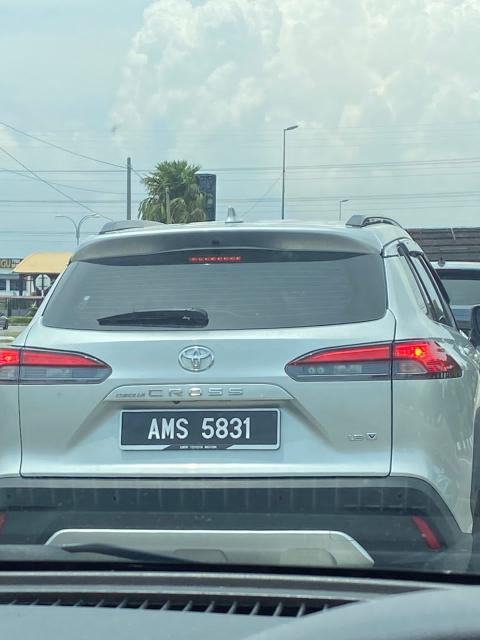License_Plate: (129, 412, 273, 448)
car: (8, 215, 478, 581)
